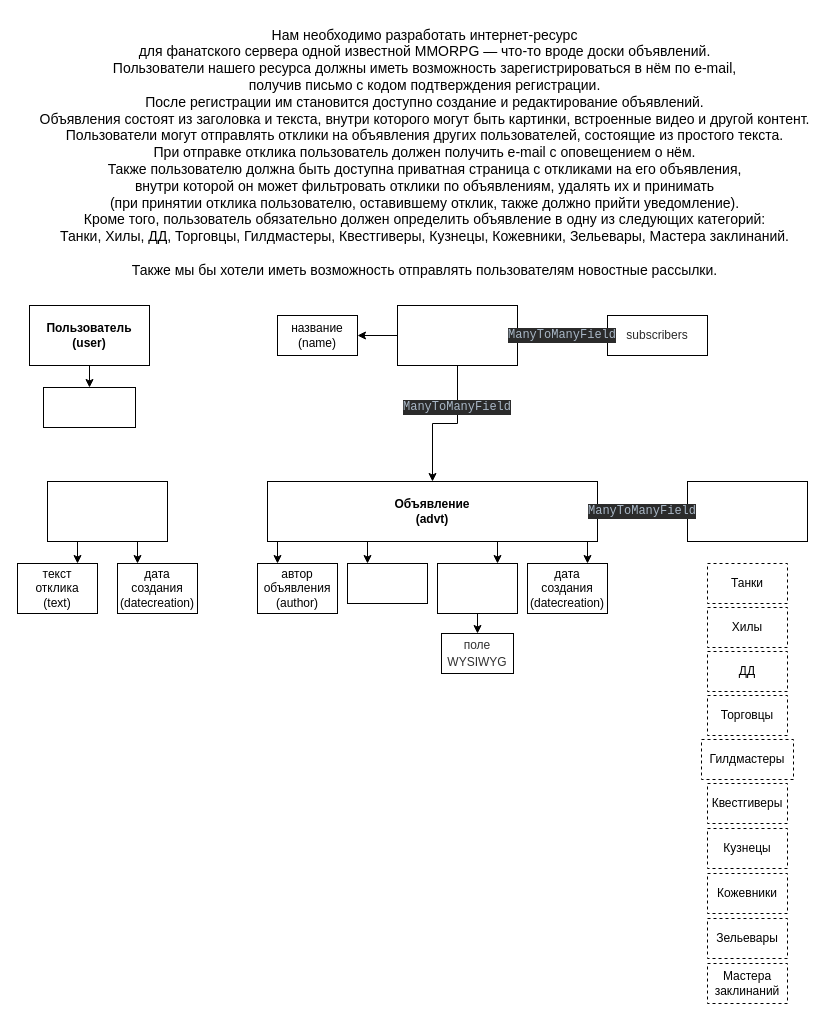
Image size: 837x1021. Some labels were removed from this diagram. Here are the shapes that lost their labels. From the top down, the centre of each, then its label:
At point 457,335: "Категория (category )".
At point 89,407: "(mmorpguser )".
At point 107,511: "Отклик на объявление ( advtresponse )".
At point 747,511: "Категория объявления (advtcategory )".
At point 387,583: "заголовок (title)".
At point 477,588: "текст объявления (text)".
